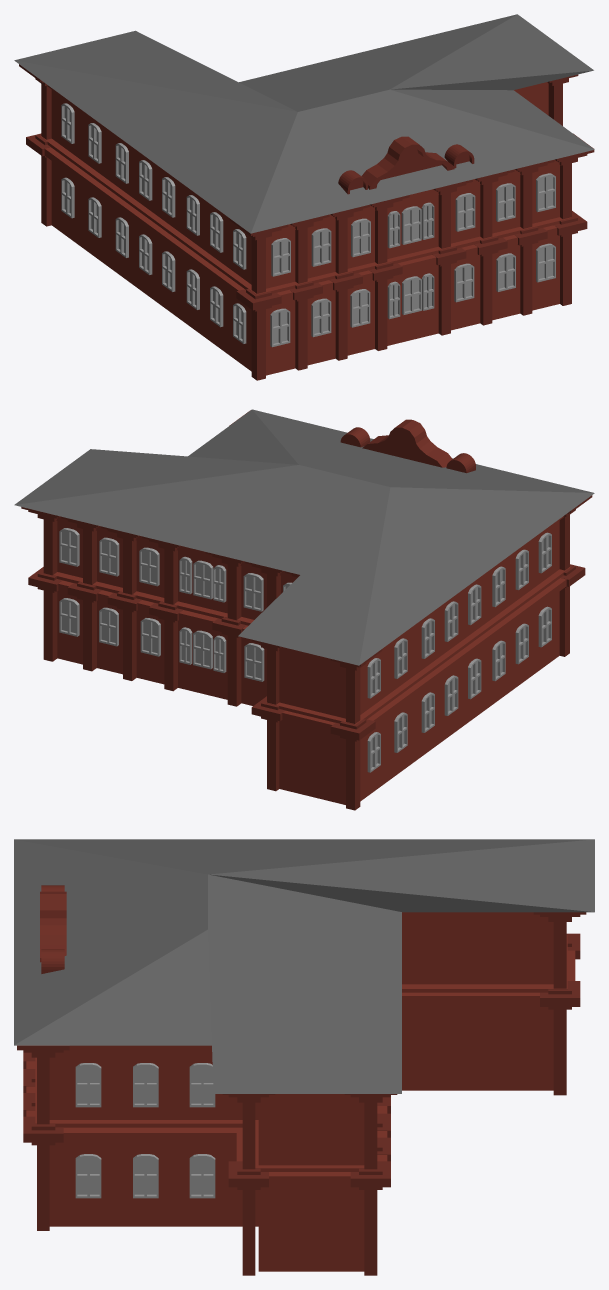
File: kytmanovmuseum.glb
3 renders of one model, top to bottom at view 1: azimuth 30°, elevation 25°; view 2: azimuth 150°, elevation 25°; view 3: azimuth 270°, elevation 25°, orthographic. The views are drawn at different scales.
Parts seen in each view (by area): view 1: Cube.080, Cube.002, Cube.013, Cube.066, Cube.001, Cube.005, Cylinder.001, Cube.003; view 2: Cube.080, Cube.002, Cube.013, Cube.066, Cube.005, Cube.001, Cylinder.001, Cube.003; view 3: Cube.080, Cube.002, Cube.013, Cube.066, Cube.005, Cube.001, Cube.003, Cylinder.001, Cube.004.
Part boxes in pixels (<box>): Cube.080: <box>14,14,594,233</box>; Cube.002: <box>51,83,559,375</box>; Cube.013: <box>19,64,594,380</box>; Cube.066: <box>61,103,555,347</box>; Cube.001: <box>40,135,571,306</box>; Cube.005: <box>44,147,557,301</box>; Cylinder.001: <box>338,136,474,194</box>; Cube.003: <box>47,82,560,235</box>; Cube.080: <box>14,409,594,665</box>; Cube.002: <box>57,520,559,804</box>; Cube.013: <box>21,410,592,810</box>; Cube.066: <box>59,528,551,772</box>; Cube.005: <box>58,578,566,731</box>; Cube.001: <box>53,566,571,735</box>; Cylinder.001: <box>340,419,475,473</box>; Cube.003: <box>56,516,563,665</box>; Cube.080: <box>14,839,594,1093</box>; Cube.002: <box>49,921,553,1271</box>; Cube.013: <box>17,912,586,1275</box>; Cube.066: <box>75,1063,215,1198</box>; Cube.005: <box>26,950,575,1184</box>; Cube.001: <box>35,935,567,1187</box>; Cube.003: <box>55,914,548,1100</box>; Cylinder.001: <box>40,885,66,973</box>; Cube.004: <box>63,912,533,1094</box>.
Size of the model in its own units: 2.81 by 1.25 by 2.71.
